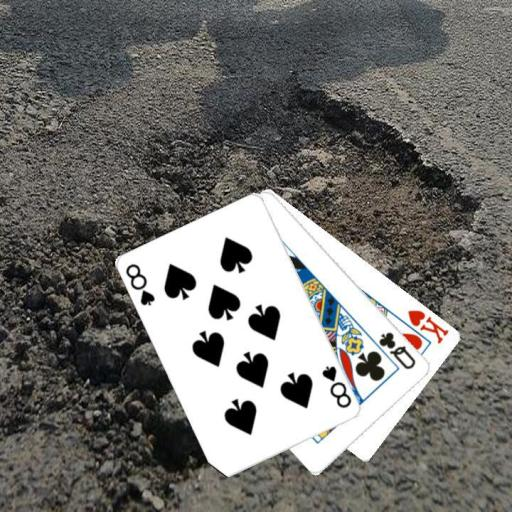8S: (122, 260, 157, 308), (319, 363, 354, 410)
KH: (405, 307, 451, 346)
QC: (376, 329, 418, 371)
